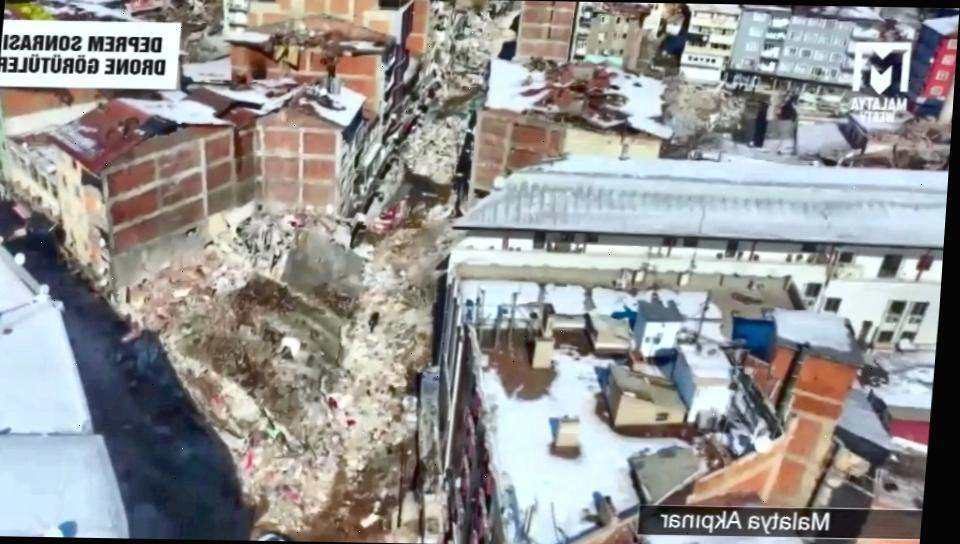kapali: (265, 217, 452, 531), (383, 103, 475, 192), (441, 10, 516, 91)
